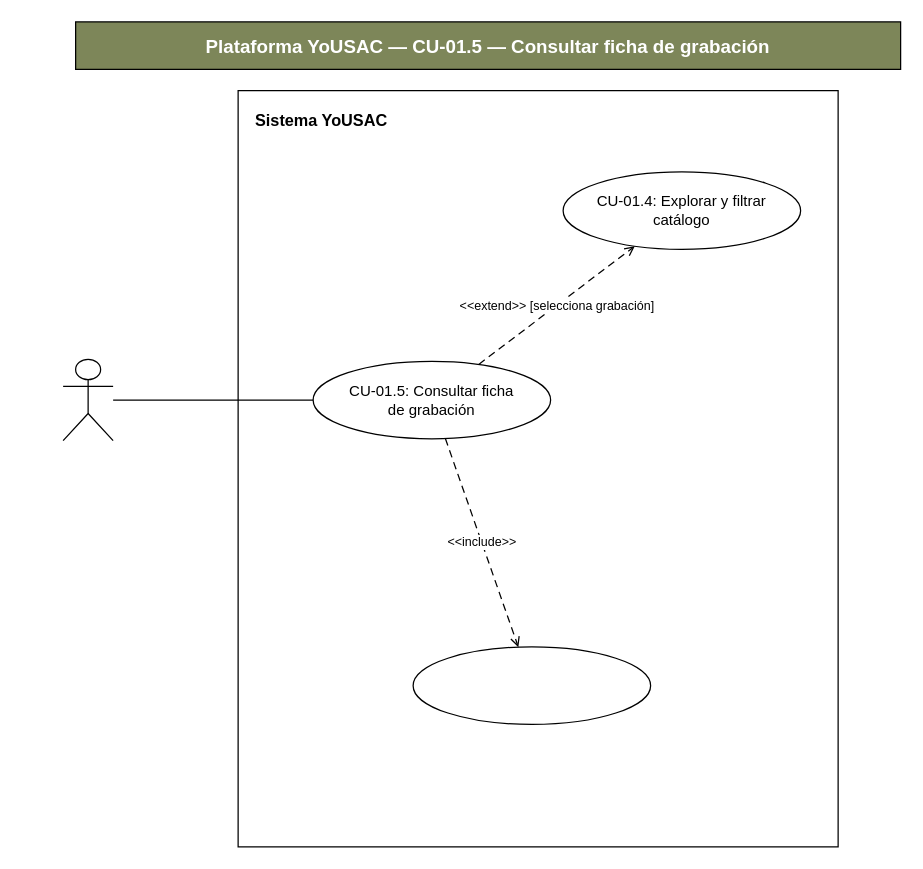
This 923x869 diagram has some shape labels left out. Each missing label, with the centre of its shape:
CU-01.5a: Mostrar ficha técnica: (x=531, y=685)
Usuario institucional: (x=87, y=399)
